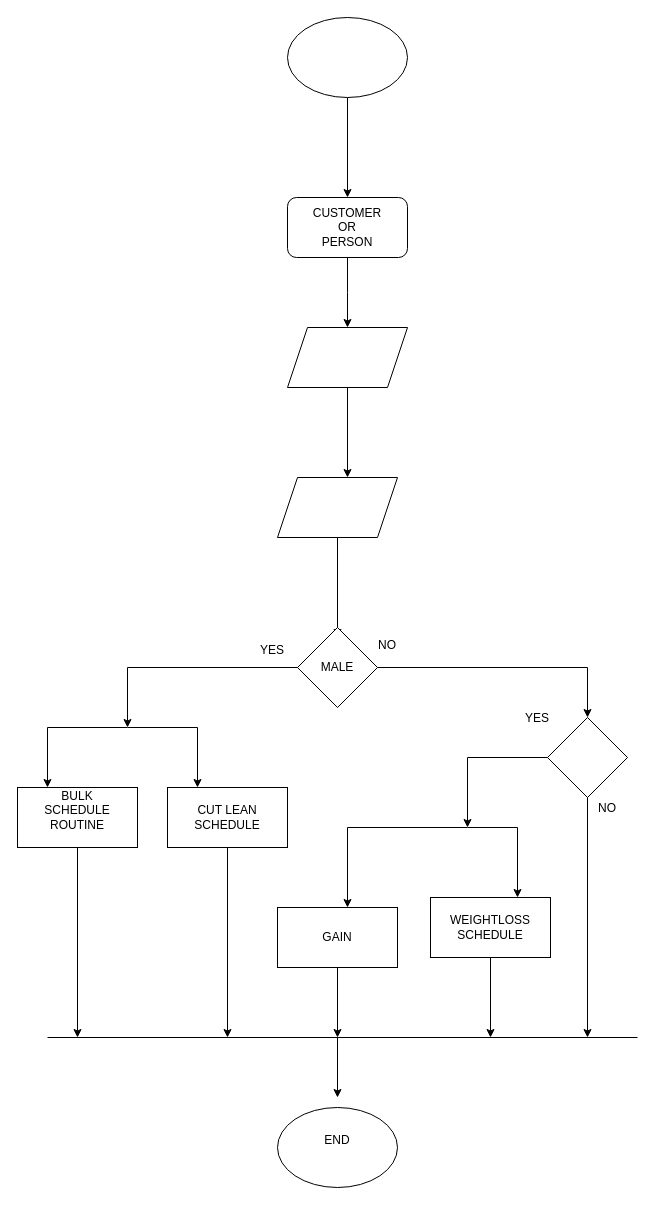
Some shapes in this 656 by 1205 pixel diagram are drawn without their labels. Here are the shapes that lost their labels. From the top down, the centre of each, then its label:
the point at 347,57: START
the point at 347,357: GENDER
the point at 337,507: AGE
the point at 587,757: FEMALE
